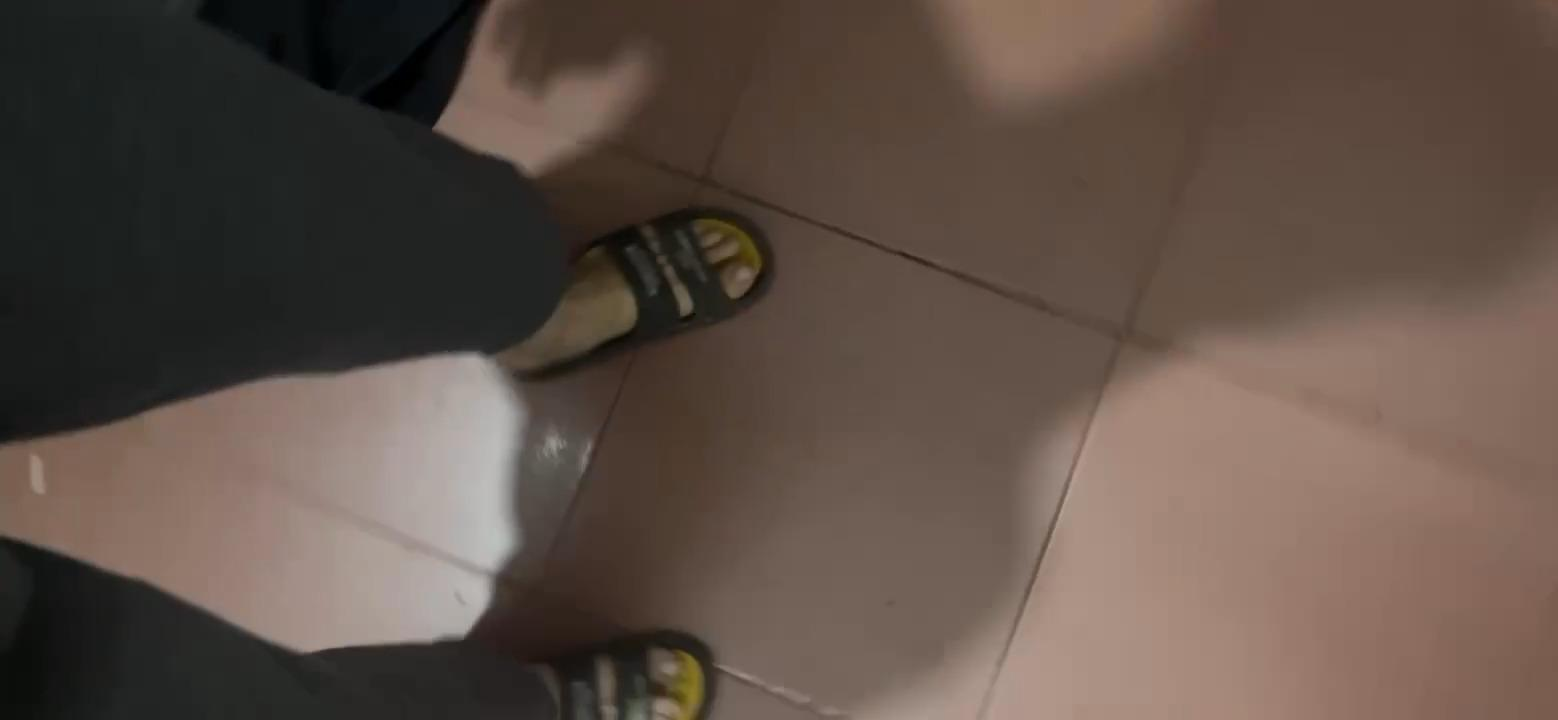no-boot: (521, 199, 792, 361), (503, 615, 714, 720)
